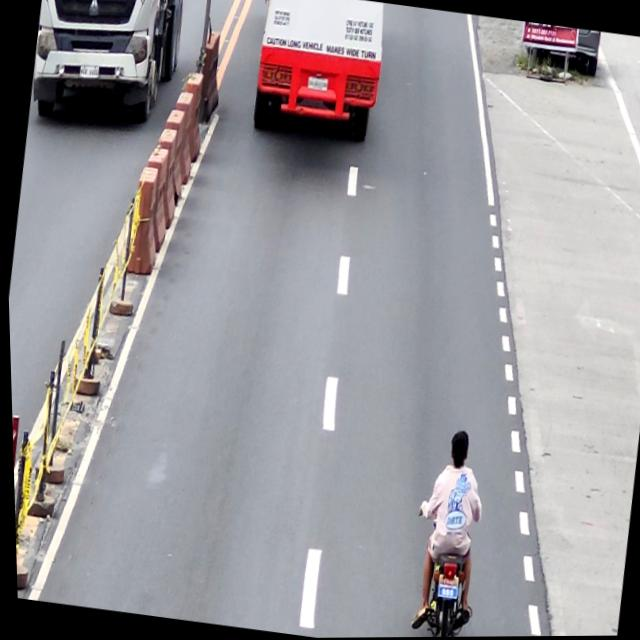License-Plate: (307, 77, 329, 94)
Motorcycle: (399, 491, 484, 638)
Truck: (246, 0, 392, 145)
